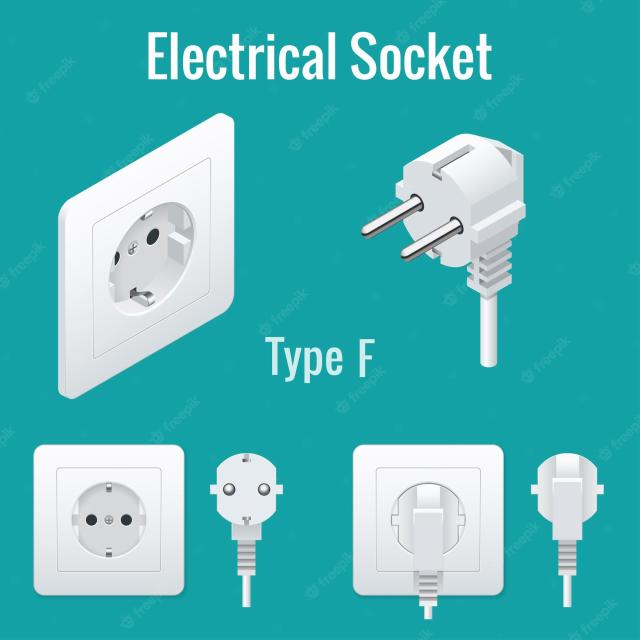typeb: (16, 109, 283, 390), (348, 430, 514, 620), (19, 438, 200, 600)
